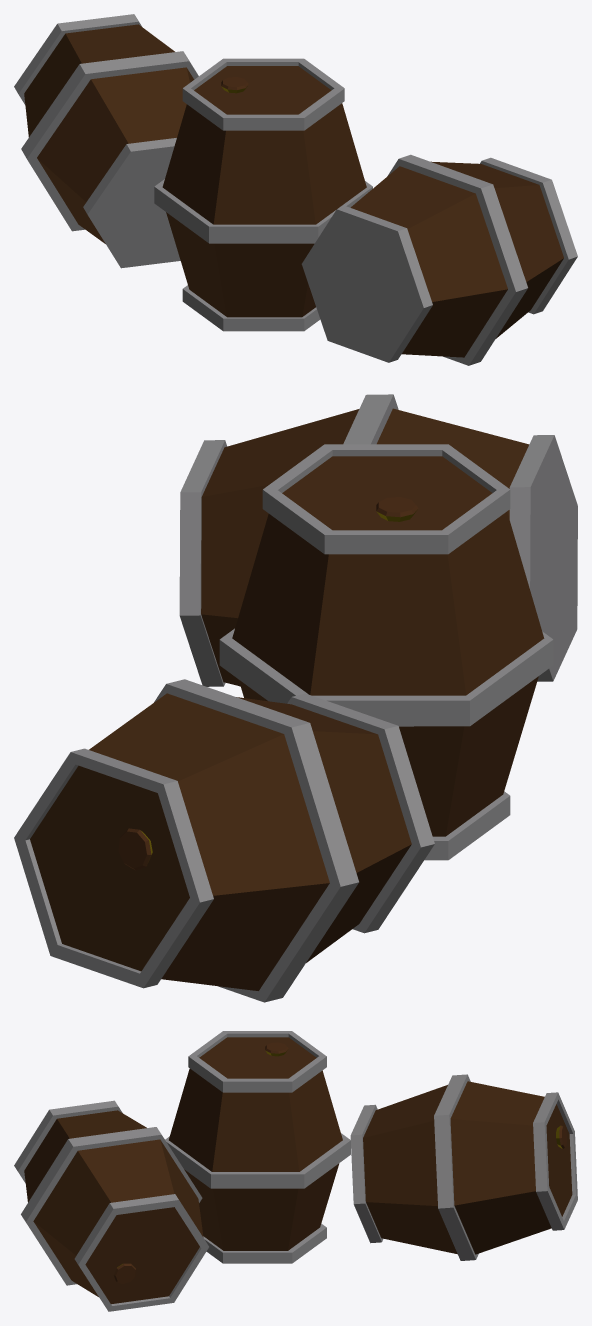
Rendered from Bochka.fbx.
3 views of the same model, one above another, from view 1: azimuth 30°, elevation 25°; view 2: azimuth 150°, elevation 25°; view 3: azimuth 270°, elevation 25° (orthographic). The views are drawn at different scales.
Parts seen in each view (by area): view 1: Cylinder.008, Cylinder.009; view 2: Cylinder.008, Cylinder.009, Cylinder.007; view 3: Cylinder.008, Cylinder.009, Cylinder.007.
Part boxes in pixels (x1,y1,x2,y2): Cylinder.008: (24, 24, 563, 357); Cylinder.009: (14, 14, 577, 365); Cylinder.008: (30, 408, 544, 990); Cylinder.009: (14, 394, 577, 1002); Cylinder.007: (118, 497, 418, 870); Cylinder.008: (24, 1037, 572, 1304); Cylinder.009: (14, 1031, 577, 1311); Cylinder.007: (113, 1042, 566, 1283).
Bounding box in the file's own units: 401 × 273 × 721.
